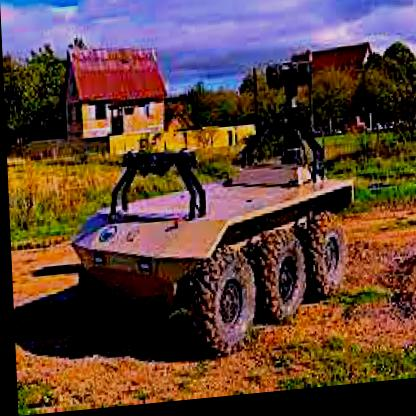UGV: (65, 125, 358, 373)
